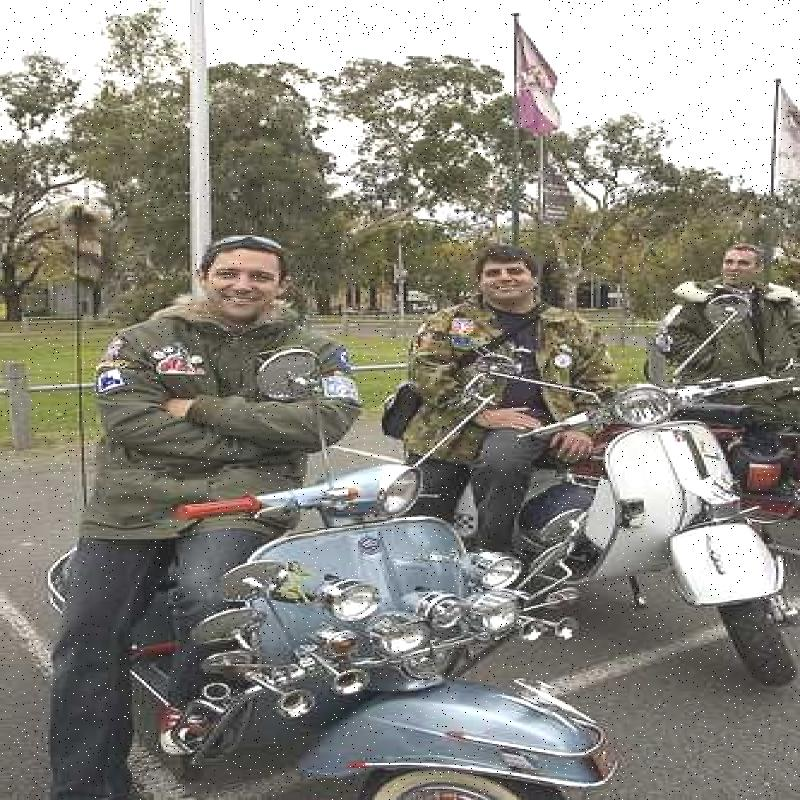bike: (505, 337, 800, 657)
